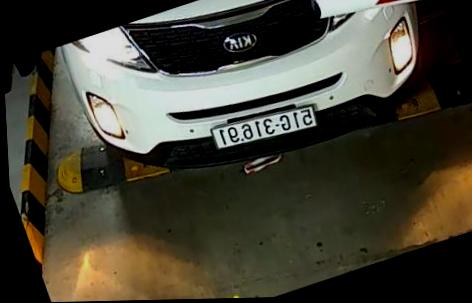License_Plate: (198, 102, 320, 169)
